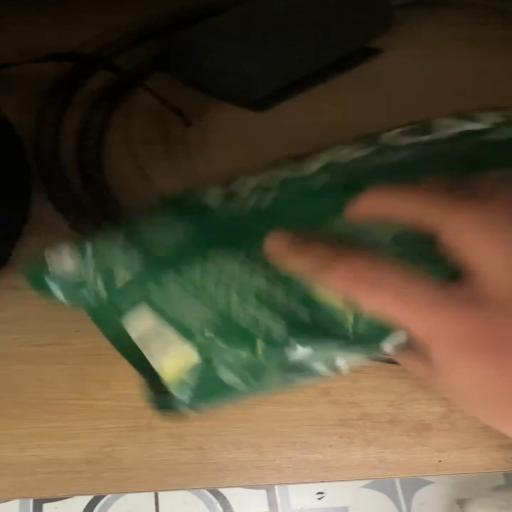cafe_xay: (27, 110, 511, 411)
